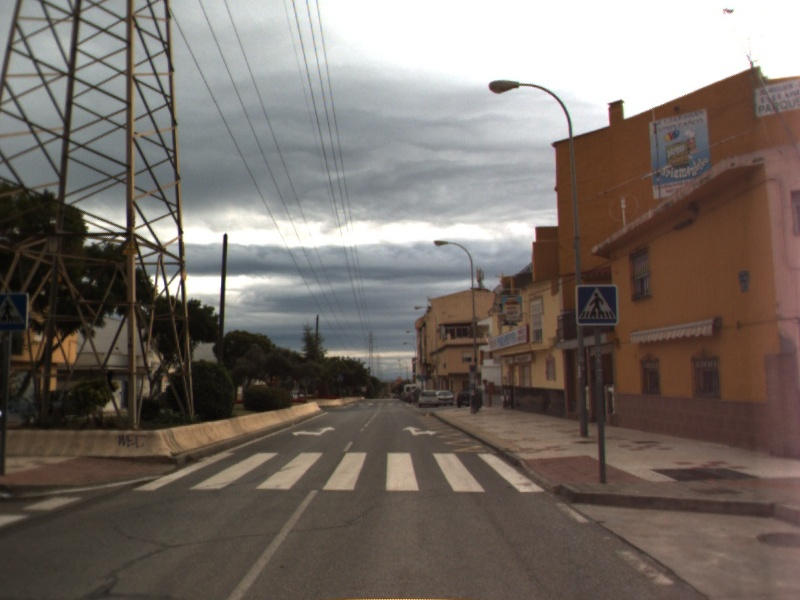STRAIGHT_LEFT: (290, 423, 338, 438)
STRAIGHT_RIGHT: (401, 423, 438, 438)
